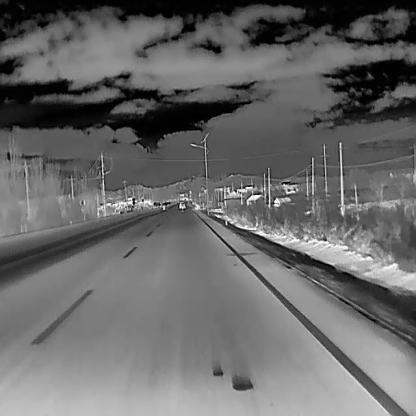car: (179, 201, 185, 209), (155, 201, 160, 207), (152, 202, 157, 208)
